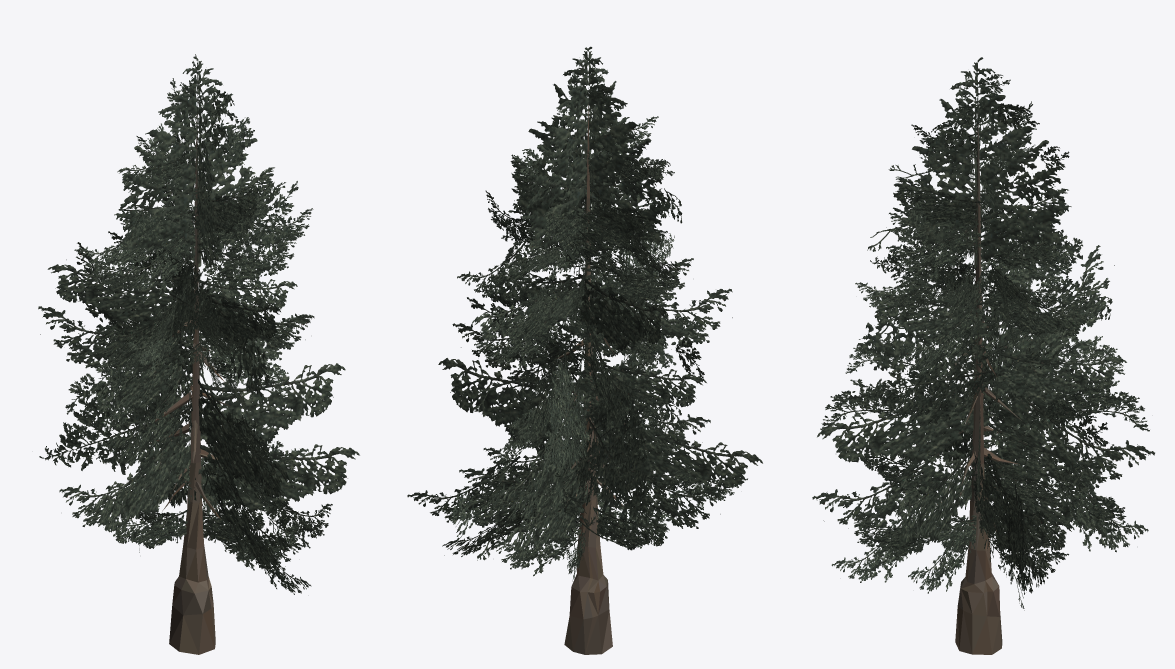
The model's file is kiefer_n1.glb.
3 renders of one model, left to right at view 1: azimuth 30°, elevation 25°; view 2: azimuth 150°, elevation 25°; view 3: azimuth 270°, elevation 25°, orthographic.
Visible parts, largest first — view 1: laub, rinde; view 2: laub, rinde; view 3: laub, rinde.
Part boxes in pixels (x1=…): laub: x1=38, y1=54, x2=359, y2=594; rinde: x1=149, y1=114, x2=231, y2=654; laub: x1=407, y1=46, x2=762, y2=581; rinde: x1=554, y1=104, x2=628, y2=654; laub: x1=812, y1=57, x2=1154, y2=610; rinde: x1=937, y1=109, x2=1021, y2=654.
Bounding box in the file's own units: 6.11 × 11.2 × 6.11.
2 materials, 1 textured.
